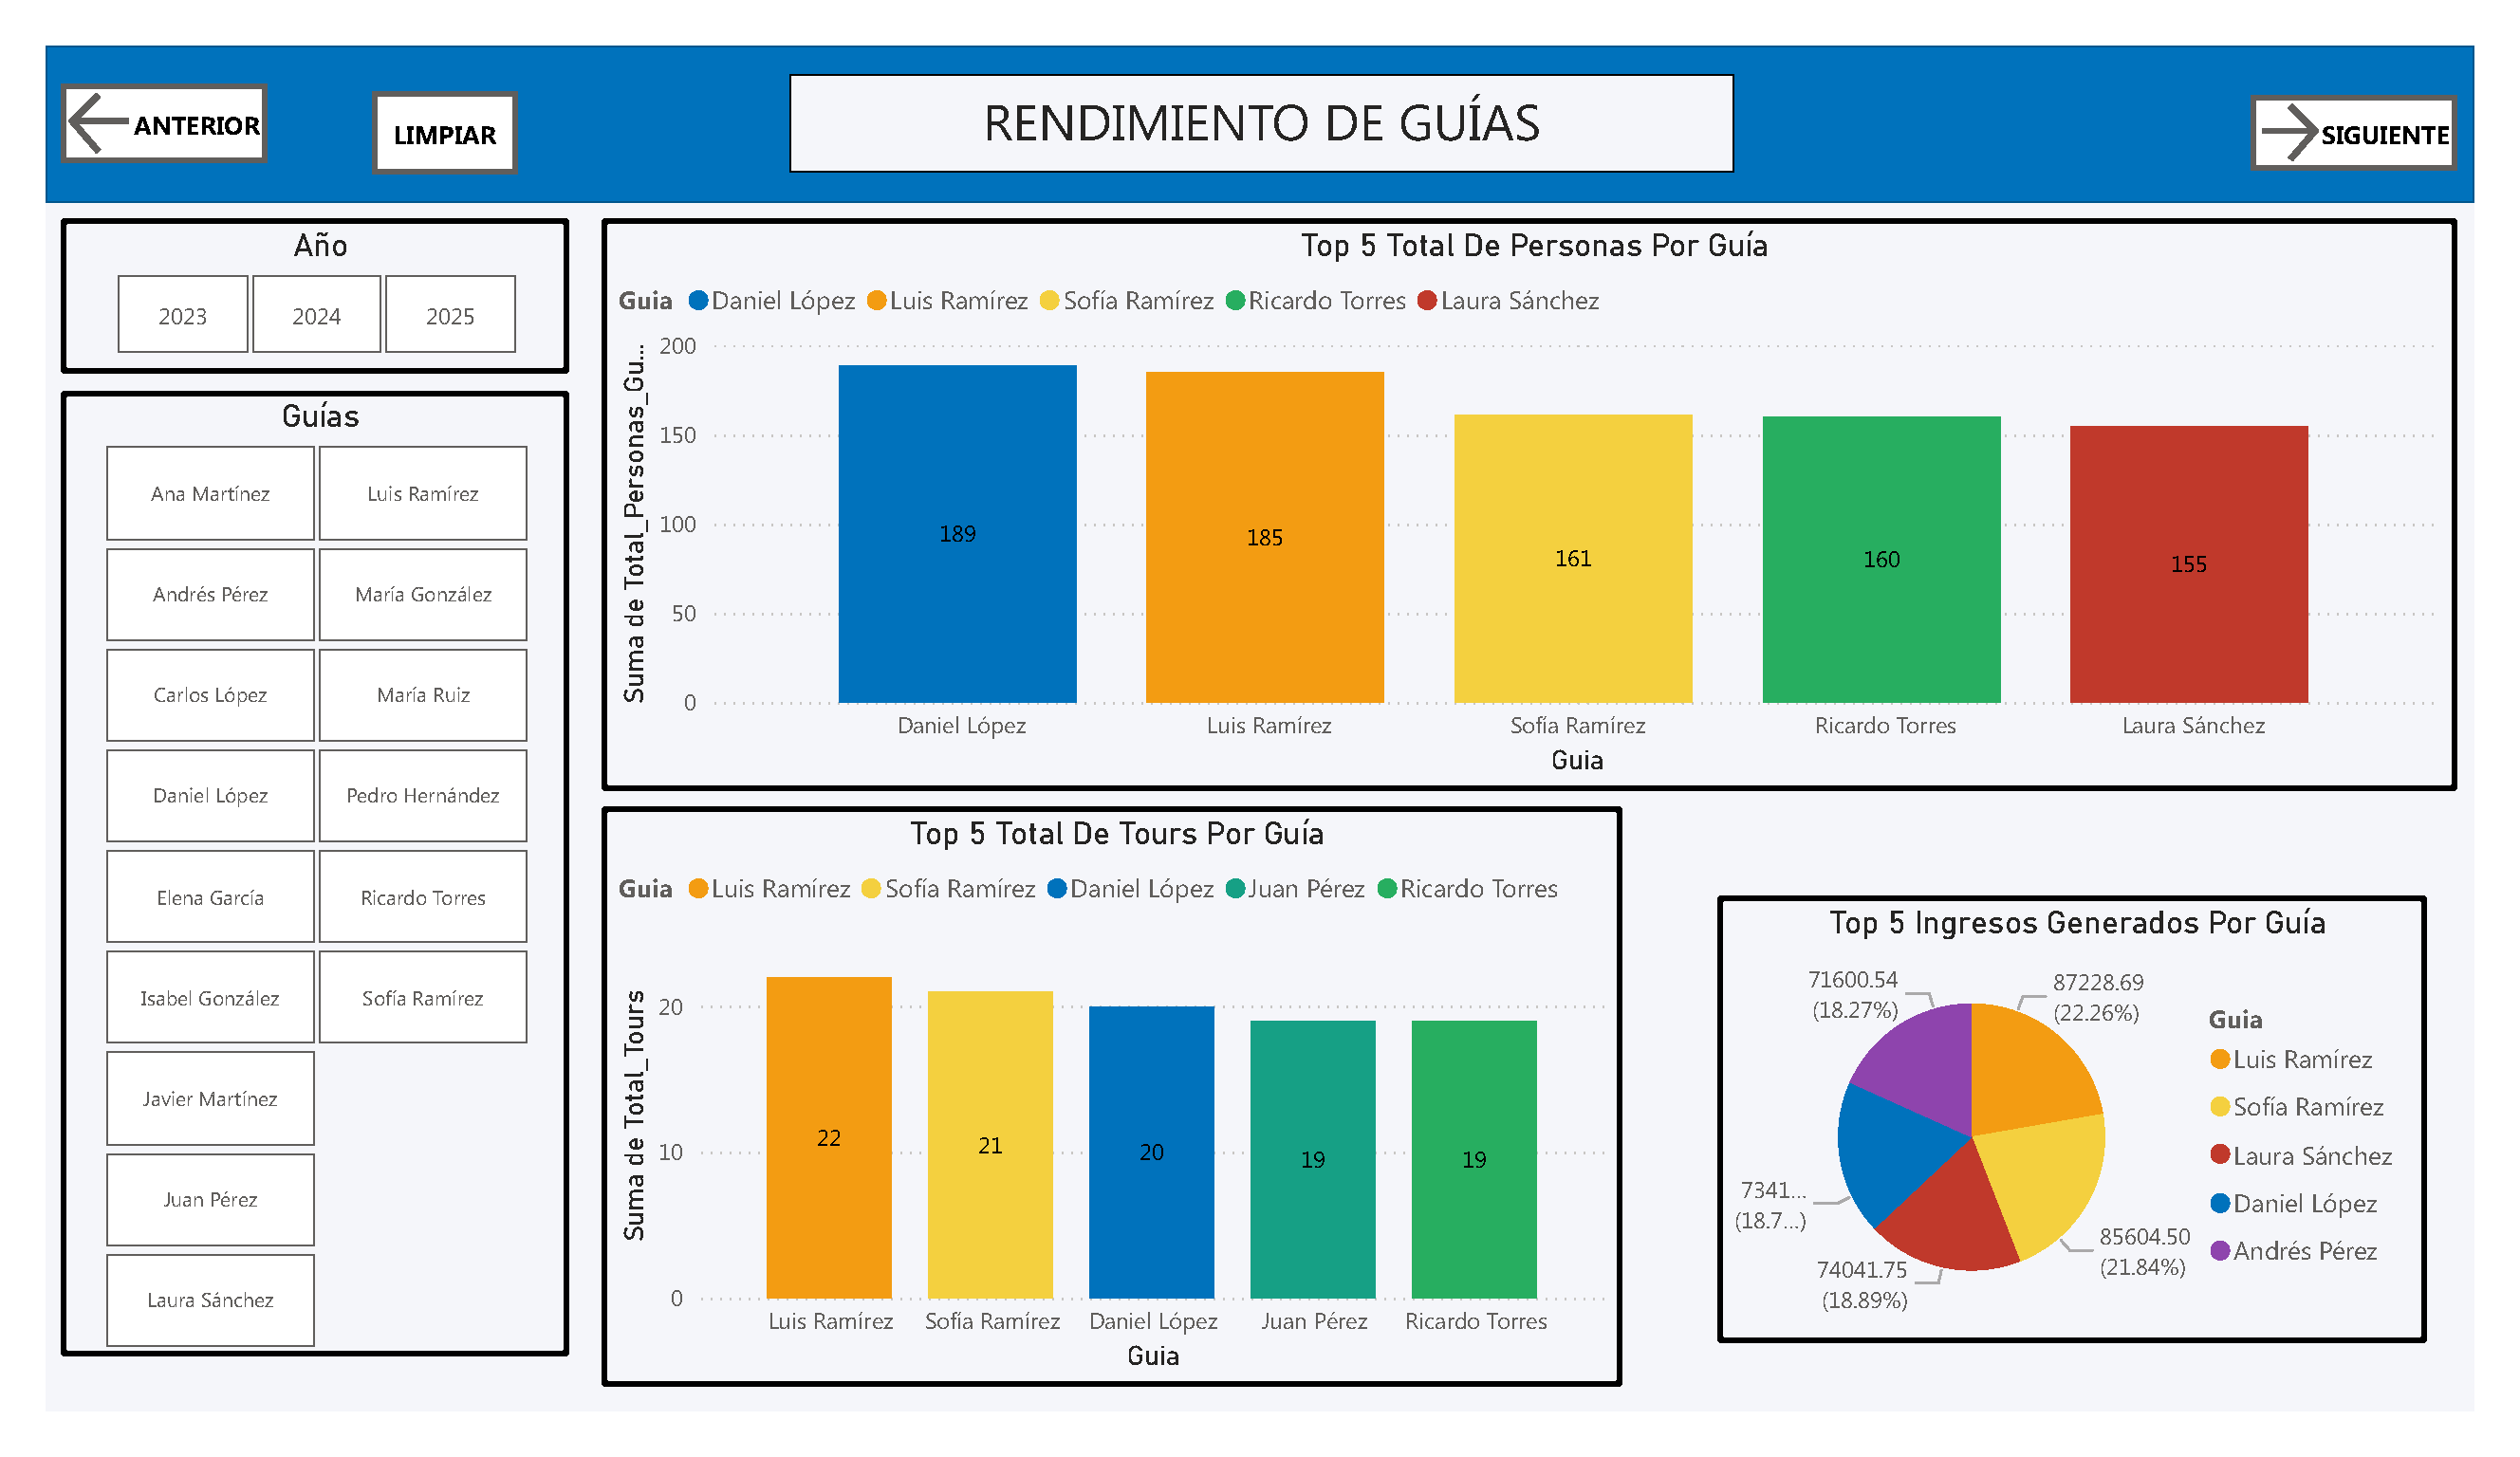

The page's visual inventory and layout, read from the dashboard file:
{"tool":"powerbi","page":{"name":"GUIAS","canvas":[1280,720],"ordinal":4},"visuals":[{"type":"slicer","title":"Guías","fields":{"Values":["performance_guias2.Guia"]},"box":[7.9,181.8,267.8,509.3],"z":0},{"type":"pieChart","title":"Top 5 Ingresos Generados Por Guía","fields":{"Category":["performance_guias2.Guia"],"Y":["Sum(performance_guias2.Ingresos_Generados)"]},"box":[880.7,447.8,374,236.2],"z":1000},{"type":"columnChart","title":"Top 5 Total De Personas Por Guía","fields":{"Category":["performance_guias2.Guia"],"Y":["Sum(performance_guias2.Total_Personas_Guiadas)"],"Series":["performance_guias2.Guia"]},"box":[293.3,91.3,977.3,302],"z":2000},{"type":"columnChart","title":"Top 5 Total De Tours Por Guía","fields":{"Category":["performance_guias2.Guia"],"Y":["Sum(performance_guias2.Total_Tours)"],"Series":["performance_guias2.Guia"]},"box":[293.3,401.3,537.4,305.6],"z":3000},{"type":"slicer","title":"Año","fields":{"Values":["performance_guias2.Año"]},"box":[7.9,91.3,267.8,81.7],"z":4000},{"type":"shape","box":[0,0,1280,83.3],"z":5000},{"type":"textbox","box":[391.7,15,498.3,51.7],"z":6000},{"type":"actionButton","box":[1161.7,26.3,108.9,39.5],"z":7000},{"type":"actionButton","title":"Atras","box":[7.9,20.2,108.9,42.1],"z":8000},{"type":"actionButton","box":[172.1,23.7,77.3,44.8],"z":9000}]}

Visuals, with their boxes in screenshot pixels (x1, y1, x2, y2), scaled from the page's 1280x720 canvas onto the 2520x1457 screenshot:
"Guías" slicer: bbox(15, 368, 543, 1398)
"Top 5 Ingresos Generados Por Guía" pieChart: bbox(1733, 906, 2471, 1384)
"Top 5 Total De Personas Por Guía" columnChart: bbox(578, 185, 2501, 796)
"Top 5 Total De Tours Por Guía" columnChart: bbox(578, 812, 1636, 1430)
"Año" slicer: bbox(15, 185, 543, 350)
shape: bbox(0, 0, 2519, 169)
textbox: bbox(771, 30, 1752, 135)
actionButton: bbox(2288, 53, 2501, 133)
"Atras" actionButton: bbox(15, 41, 230, 126)
actionButton: bbox(339, 48, 491, 138)
